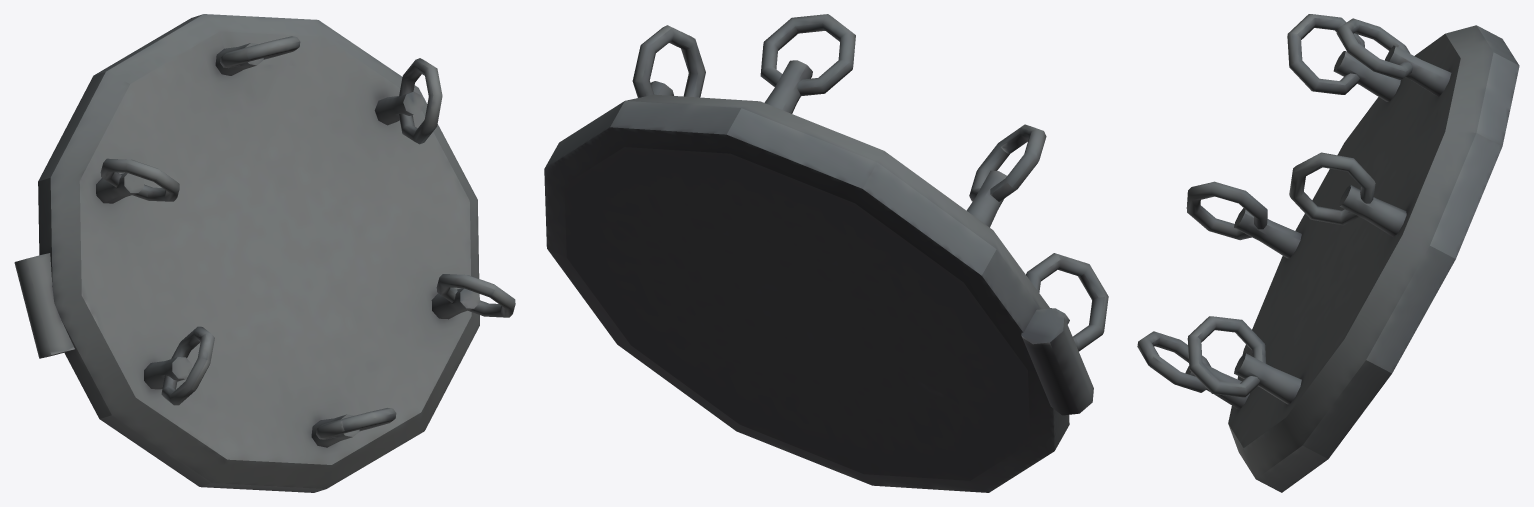
The model's file is chen_cover.fbx.
The picture shows the model from 3 angles, left to right: view 1: azimuth 30°, elevation 25°; view 2: azimuth 150°, elevation 25°; view 3: azimuth 270°, elevation 25°; orthographic projection. The views are drawn at different scales.
Parts seen in each view (by area): view 1: chem_cover; view 2: chem_cover; view 3: chem_cover.
Boxes of the visible parts, x1,y1,x2,y2 form: chem_cover: [14, 14, 515, 492]; chem_cover: [544, 14, 1108, 492]; chem_cover: [1137, 14, 1519, 492].
Bounding box in the file's own units: 0.8236 × 0.755 × 0.5938.
